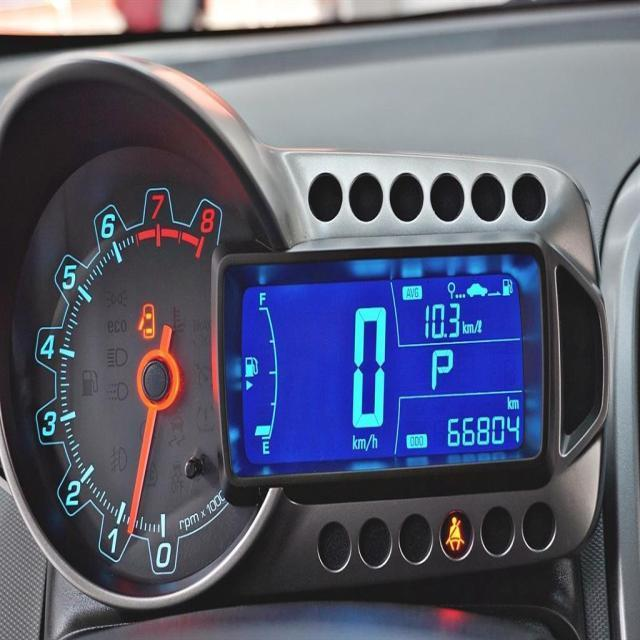Doors: (136, 302, 154, 338)
